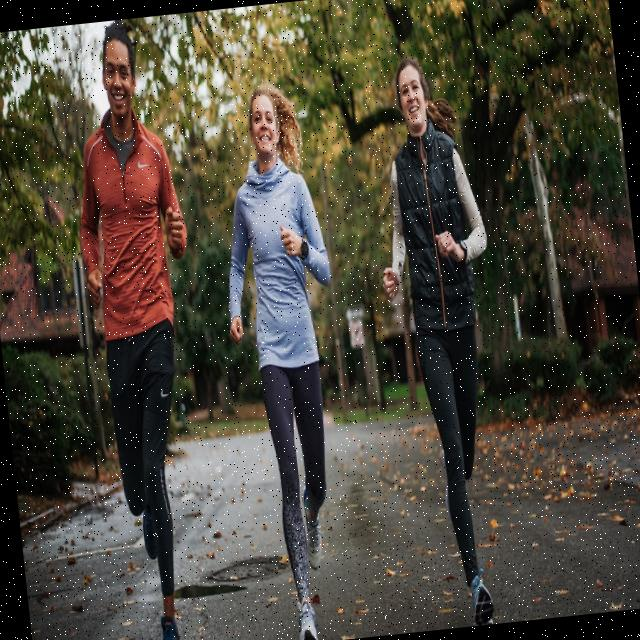Person: (57, 14, 230, 640), (358, 51, 526, 632), (205, 79, 369, 640)
